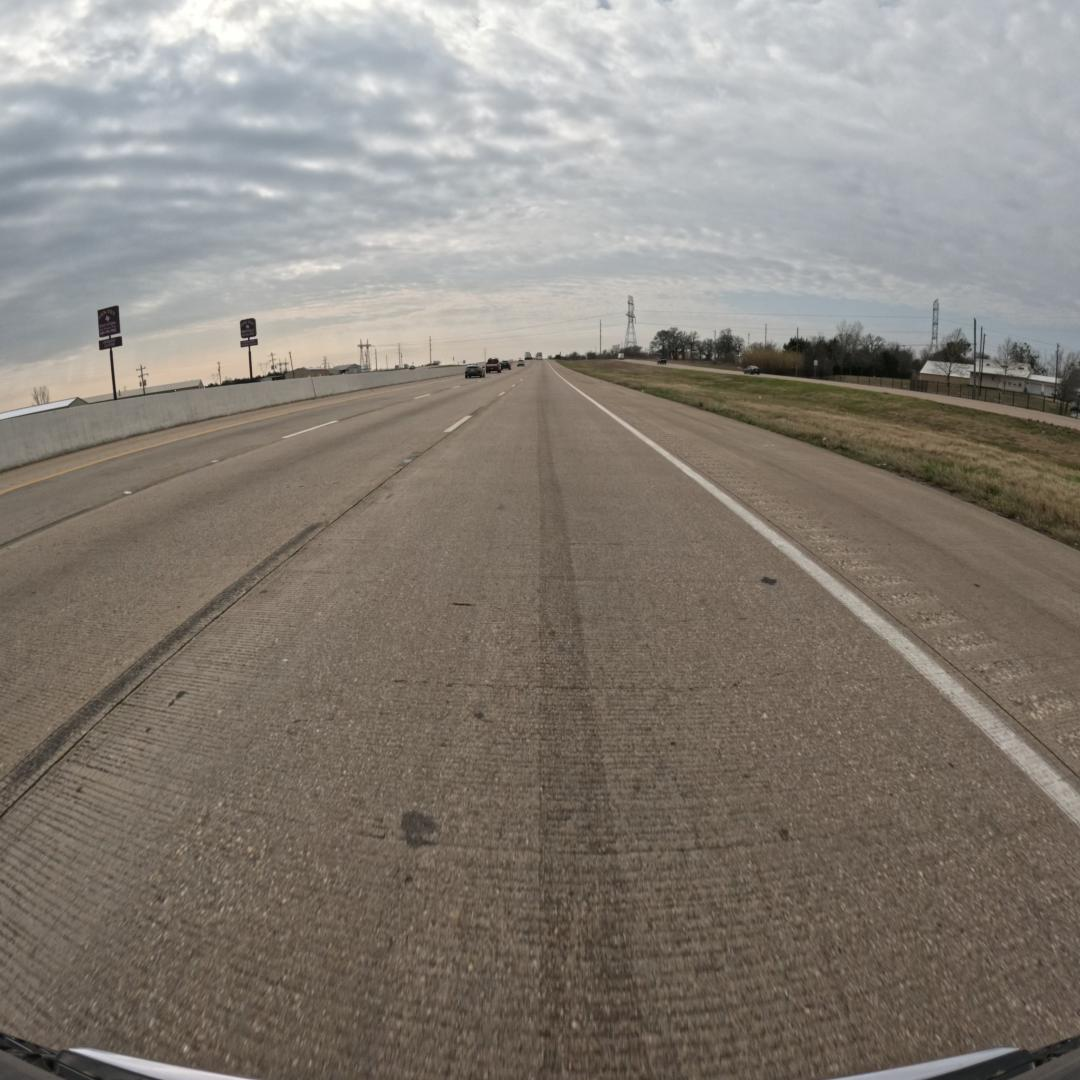lane0: (0, 368, 1080, 1077)
lane1: (0, 364, 542, 811)
